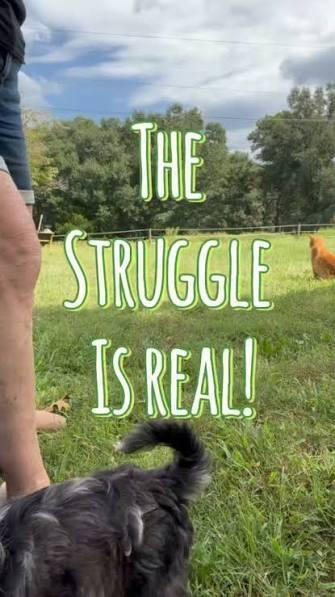adult_dog: (0, 419, 213, 597)
non-dog: (0, 0, 48, 508)
